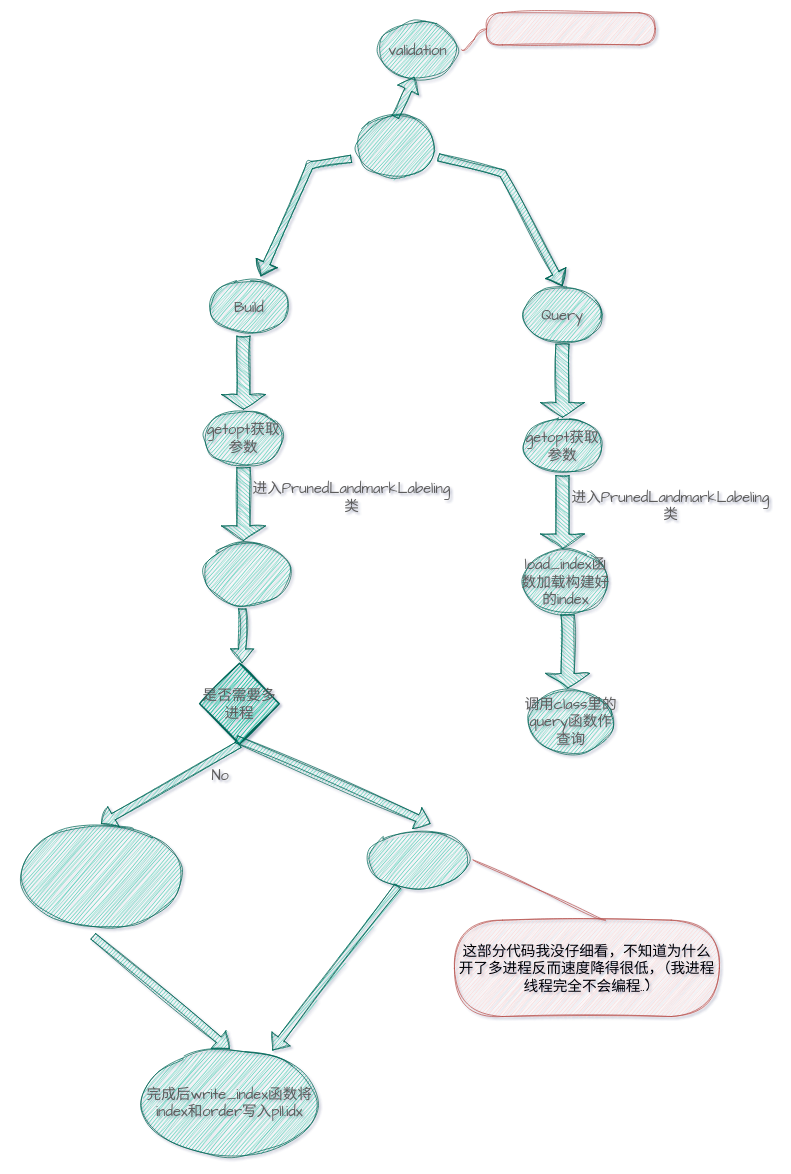
The diagram is 791 pixels wide and 1174 high, and some of its shapes have lost their labels. Each missing label, with the centre of its shape:
"action" goes at pixel 395 146.
"build_index_multi_process函数构建index" goes at pixel 417 859.
"build_index函数构建index(先用gen_order基于不同的策略构建order，再进行BFS构建Index)，" goes at pixel 100 875.
"read_garph函数读取图并" goes at pixel 246 573.
"这部分代码我还没看" goes at pixel 570 28.
